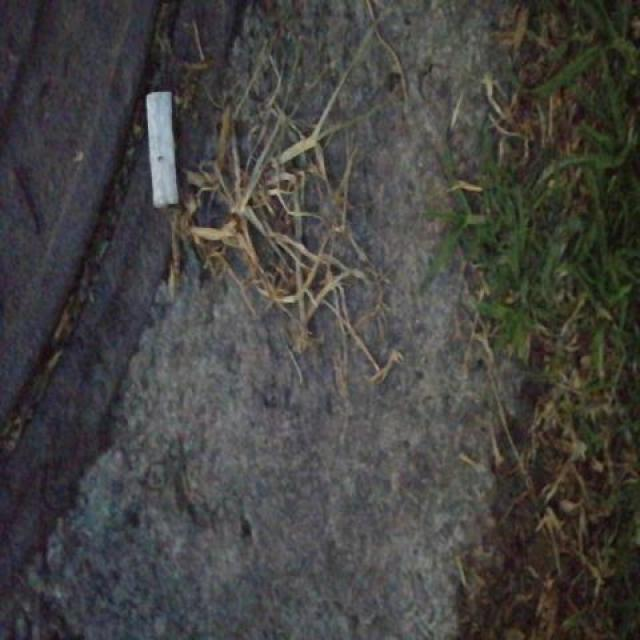non-organic waste: (143, 87, 180, 213)
